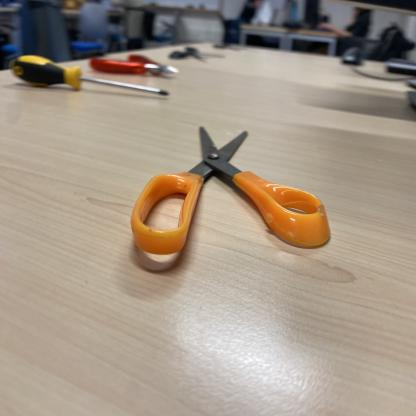scissors: (129, 124, 332, 256), (168, 44, 230, 70)
